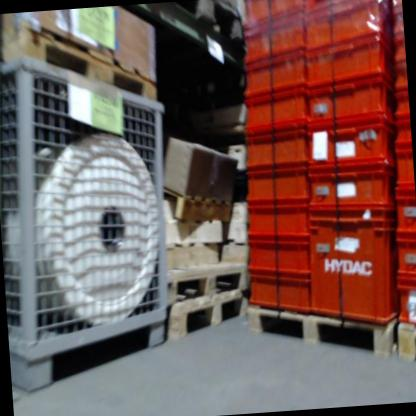pallet: (0, 10, 159, 117), (249, 289, 396, 367), (144, 0, 246, 49), (154, 252, 256, 299), (155, 291, 249, 340), (396, 319, 416, 365)
small_load_carrier: (305, 209, 403, 331), (301, 75, 397, 134), (304, 119, 400, 178), (298, 40, 396, 95), (301, 0, 390, 58), (307, 166, 398, 218), (238, 14, 309, 70), (236, 0, 326, 36), (238, 89, 309, 134), (244, 203, 312, 247), (242, 274, 317, 313), (239, 59, 307, 101), (241, 167, 311, 207), (241, 130, 309, 171), (245, 242, 314, 280), (391, 236, 416, 289), (391, 187, 416, 238), (389, 148, 415, 188), (396, 284, 416, 330), (391, 118, 412, 149), (389, 92, 409, 119), (392, 65, 408, 93), (390, 38, 406, 66), (391, 13, 405, 39), (390, 0, 402, 14)
stillage: (0, 37, 181, 395)
